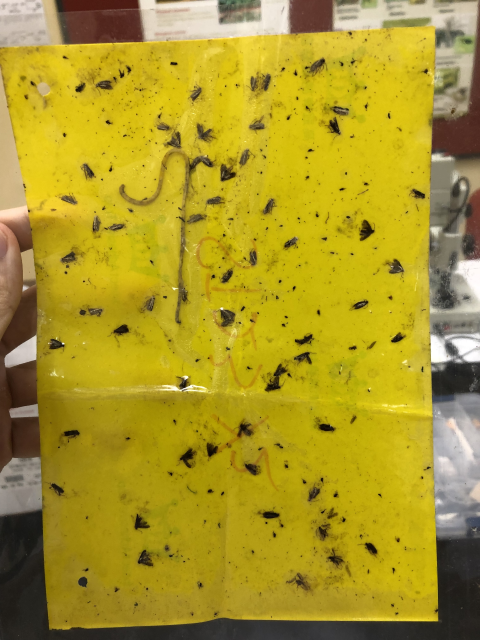DBM: (193, 121, 219, 145), (324, 117, 345, 145), (246, 113, 268, 135), (385, 257, 406, 280), (92, 76, 114, 97), (306, 56, 328, 77), (135, 548, 157, 568), (163, 131, 187, 149), (219, 306, 237, 330), (218, 161, 237, 183), (293, 349, 317, 366), (78, 161, 97, 182), (358, 540, 380, 558), (184, 211, 208, 227), (237, 148, 257, 167), (260, 196, 278, 217), (187, 81, 204, 103), (204, 194, 226, 211), (108, 323, 131, 339), (305, 482, 321, 504), (329, 103, 352, 118), (57, 191, 80, 206), (143, 293, 161, 312), (45, 337, 67, 352), (260, 71, 274, 94), (247, 73, 261, 96), (177, 373, 191, 395), (272, 362, 291, 378), (58, 250, 78, 265), (89, 213, 103, 234), (247, 247, 261, 268), (282, 235, 300, 251), (350, 297, 369, 312), (188, 153, 202, 173), (179, 286, 193, 306), (86, 306, 105, 320), (199, 152, 214, 169), (259, 510, 282, 521), (106, 221, 127, 232), (155, 119, 170, 132)
